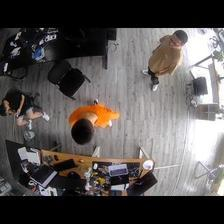normal: (140, 30, 186, 93), (69, 100, 119, 139)
